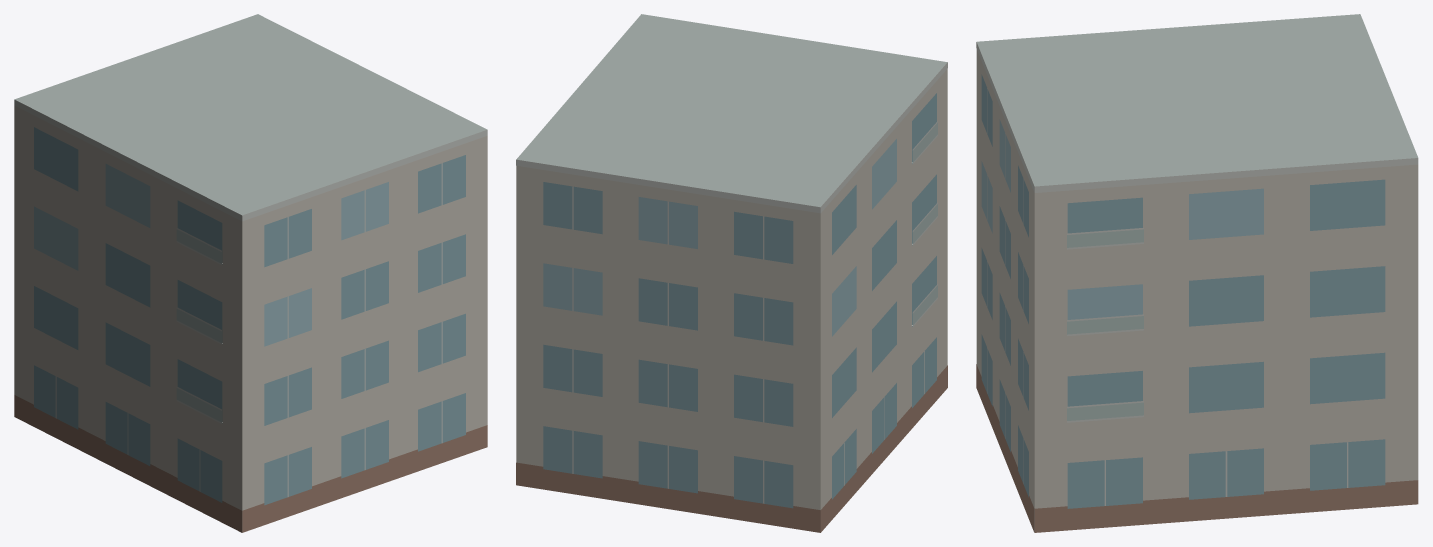
The model's file is survey-upis-32707656.glb.
The picture shows the model from 3 angles, left to right: view 1: azimuth 30°, elevation 25°; view 2: azimuth 150°, elevation 25°; view 3: azimuth 270°, elevation 25°; orthographic projection. The views are drawn at different scales.
Parts seen in each view (by area): view 1: survey-upis-32707656.tmp; view 2: survey-upis-32707656.tmp; view 3: survey-upis-32707656.tmp.
Part boxes in pixels (x1,y1,x2,y2): survey-upis-32707656.tmp: [14, 14, 487, 532]; survey-upis-32707656.tmp: [516, 14, 947, 532]; survey-upis-32707656.tmp: [976, 14, 1418, 532].
Size of the model in its own units: 13.79 by 12.9 by 14.93.
